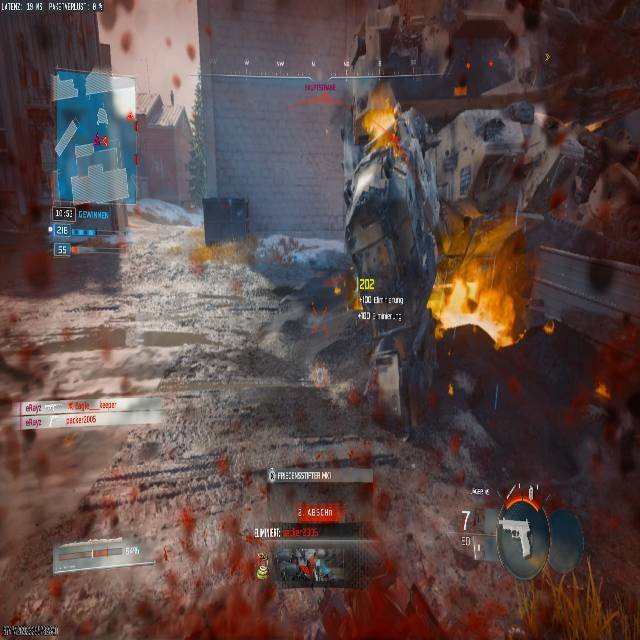head: (362, 109, 396, 143)
player: (341, 97, 411, 299)
